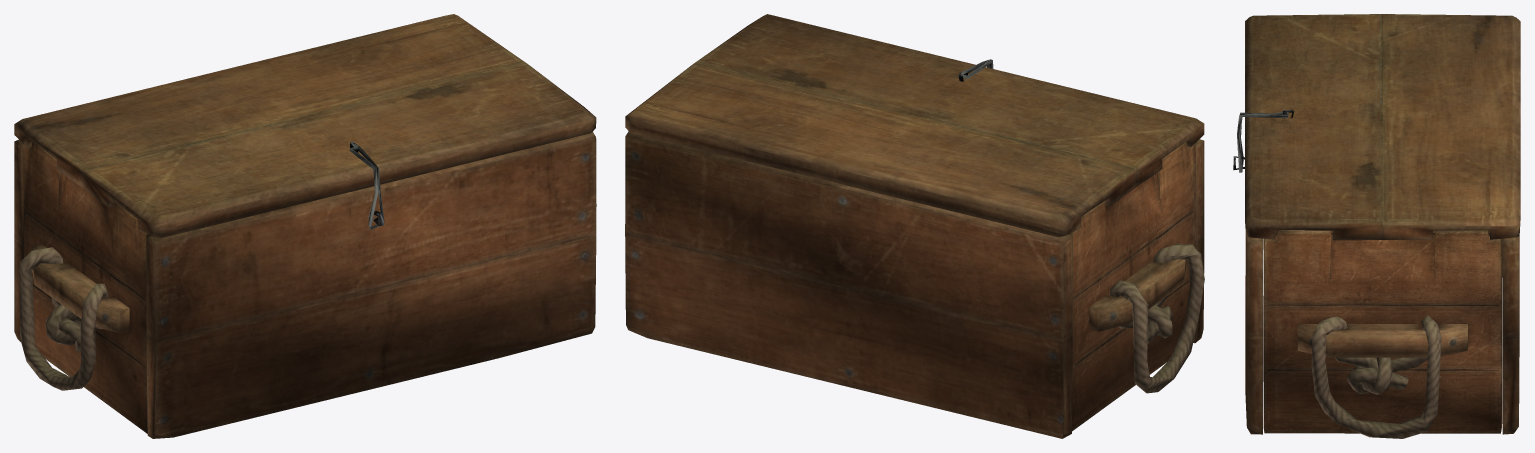
The model's file is scan_crate.glb.
3 views of the same model, side by side, from view 1: azimuth 30°, elevation 25°; view 2: azimuth 150°, elevation 25°; view 3: azimuth 270°, elevation 25° (orthographic). The views are drawn at different scales.
Parts seen in each view (by area): view 1: scan_crate; view 2: scan_crate; view 3: scan_crate.
Boxes of the visible parts, x1,y1,x2,y2 form: scan_crate: (14, 14, 596, 438); scan_crate: (625, 14, 1204, 438); scan_crate: (1233, 14, 1520, 438).
Bounding box in the file's own units: 0.821 × 0.3462 × 0.4074.
Materials: 1 (1 with a texture image).
